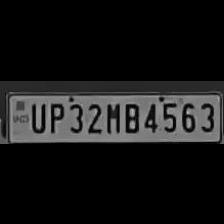2: (84, 99, 104, 133)
3: (196, 98, 216, 132), (66, 99, 84, 133)
4: (141, 98, 158, 132)
5: (159, 98, 177, 132)
6: (178, 98, 196, 132)
B: (120, 99, 140, 133)
M: (102, 99, 120, 133)
P: (46, 99, 64, 133)
U: (27, 98, 45, 132)
